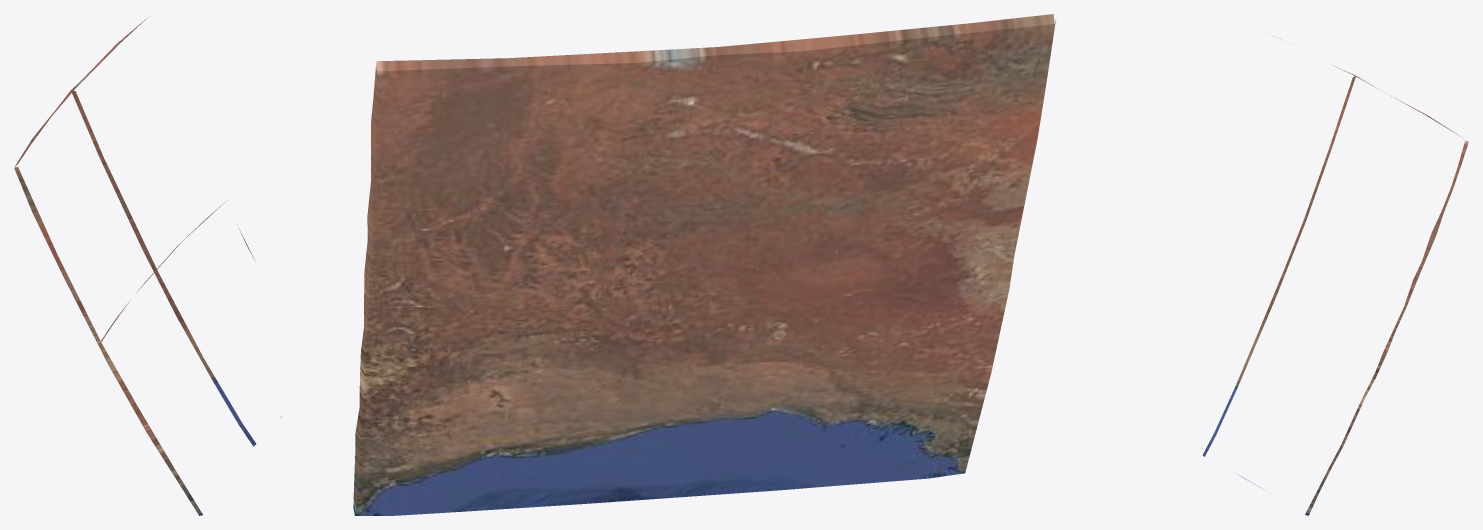
The picture shows the model from 3 angles, left to right: view 1: azimuth 30°, elevation 25°; view 2: azimuth 150°, elevation 25°; view 3: azimuth 270°, elevation 25°; orthographic projection. The views are drawn at different scales.
Size of the model in its own units: 1233622 by 1119021 by 1167061.
Materials: 1 (1 with a texture image).
